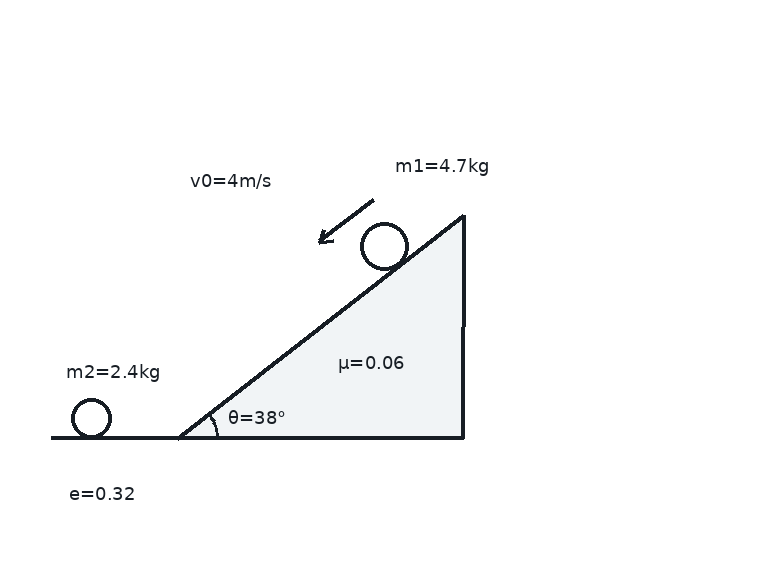ball: (358, 220, 410, 272), (69, 396, 113, 440)
ramp: (175, 213, 464, 440)
